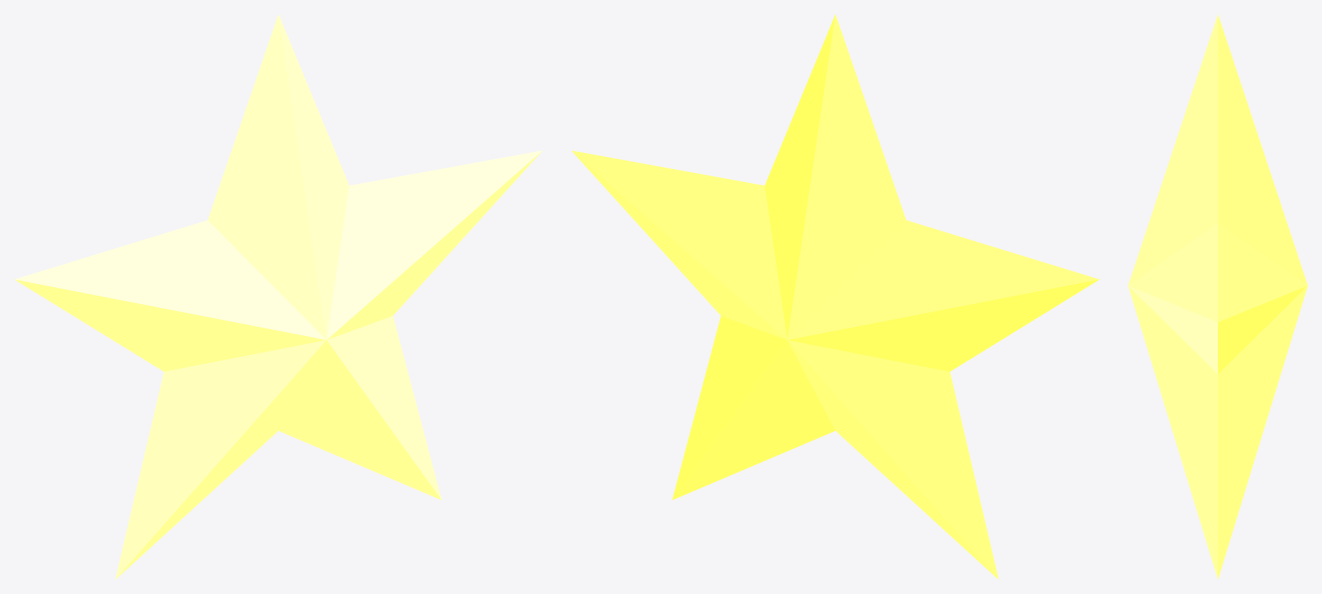
Rendered from SM_DizzyStar.fbx.
3 renders of one model, left to right at view 1: azimuth 30°, elevation 25°; view 2: azimuth 150°, elevation 25°; view 3: azimuth 270°, elevation 25°, orthographic. The views are drawn at different scales.
Parts seen in each view (by area): view 1: SM_DizzyStar; view 2: SM_DizzyStar; view 3: SM_DizzyStar.
Part boxes in pixels (x1,y1,x2,y2): SM_DizzyStar: (14, 14, 541, 579); SM_DizzyStar: (572, 14, 1099, 579); SM_DizzyStar: (1128, 15, 1307, 578).
Bounding box in the file's own units: 0.2853 × 0.2714 × 0.09.
